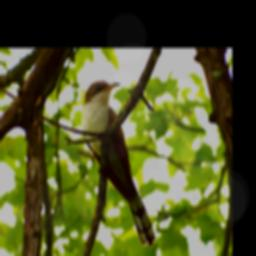Cuckoo: (81, 80, 156, 248)
